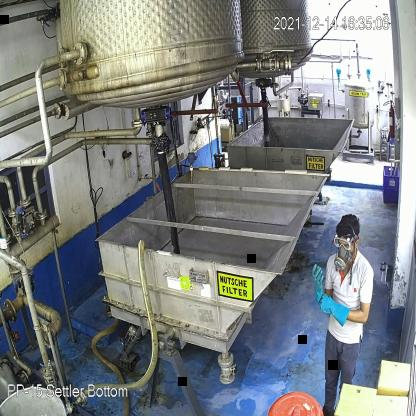goggles: (329, 233, 356, 253)
mask: (333, 246, 355, 274)
